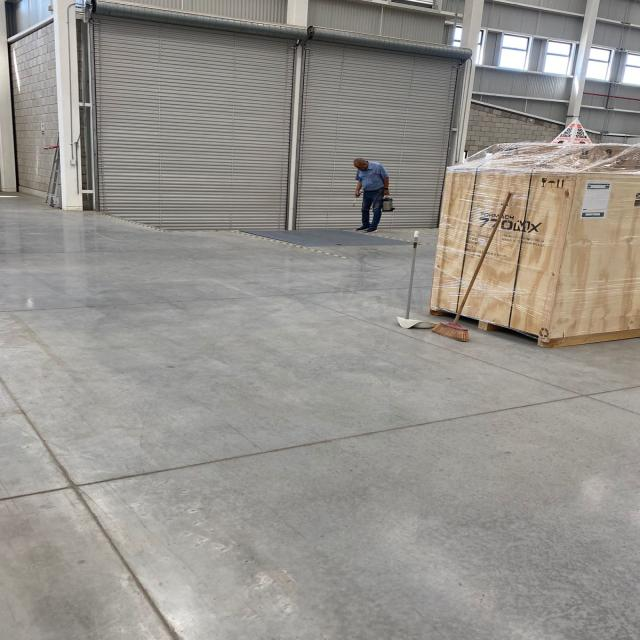770b: (430, 143, 639, 346)
